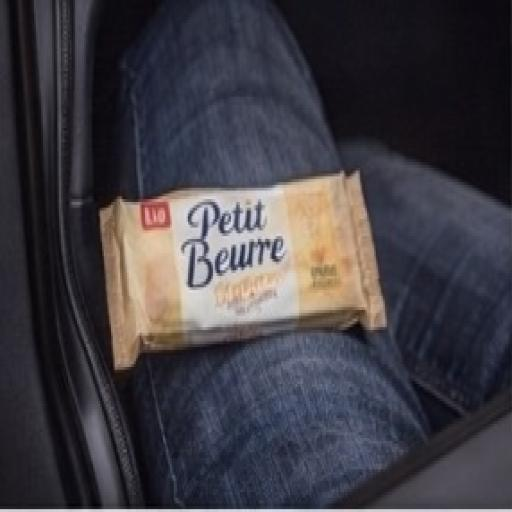petit-beurre: (58, 145, 432, 397)
